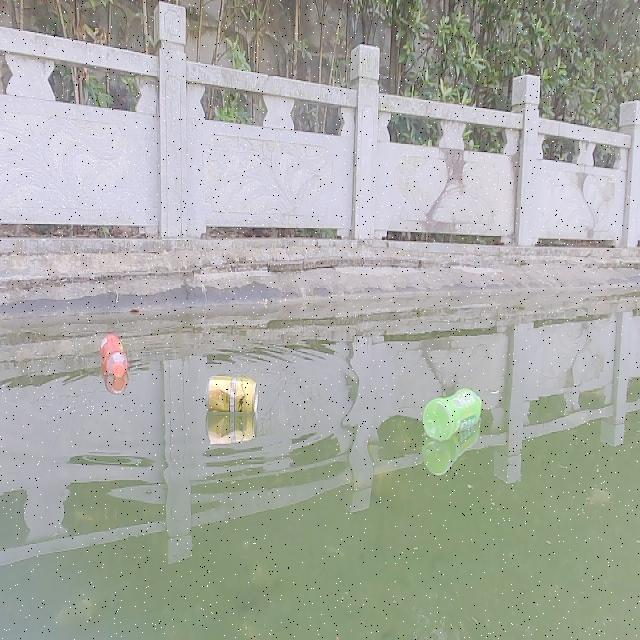Bottle: (420, 385, 480, 440), (98, 332, 127, 376)
Can: (204, 372, 257, 416)
